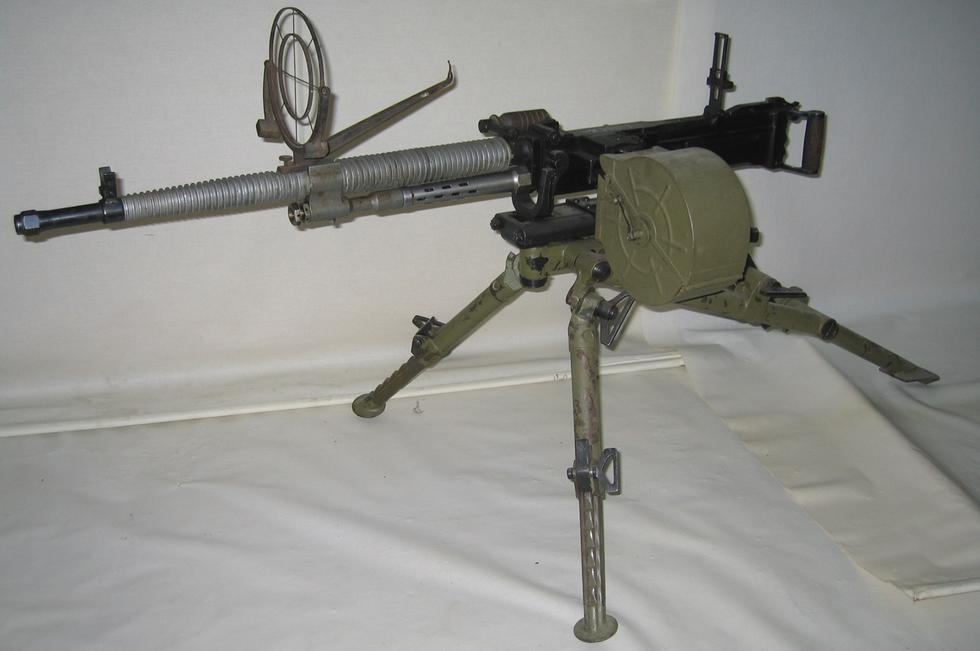rifle: (16, 24, 937, 629)
